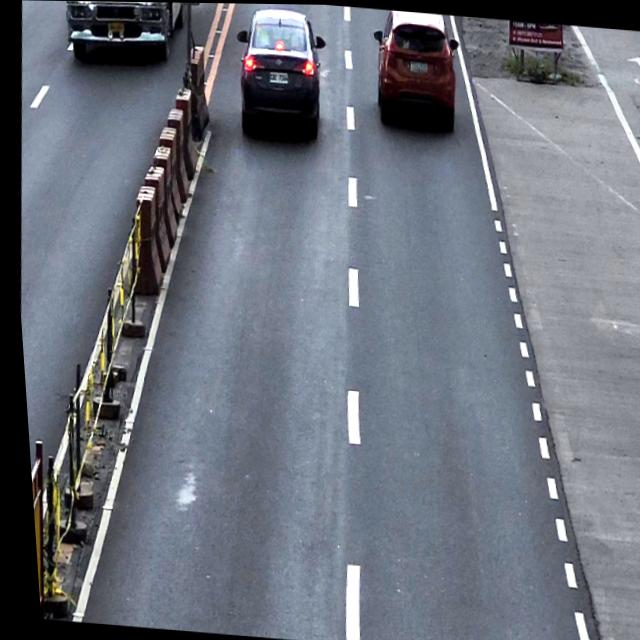Car: (227, 4, 335, 144), (364, 8, 466, 135)
License-Plate: (267, 69, 288, 83), (407, 60, 428, 74), (106, 21, 125, 34)
Truck: (59, 1, 186, 66)
